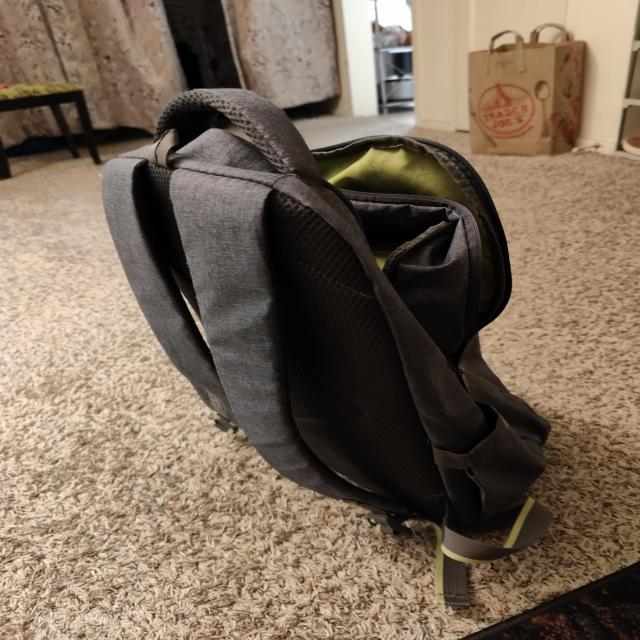bag: (96, 82, 537, 535)
